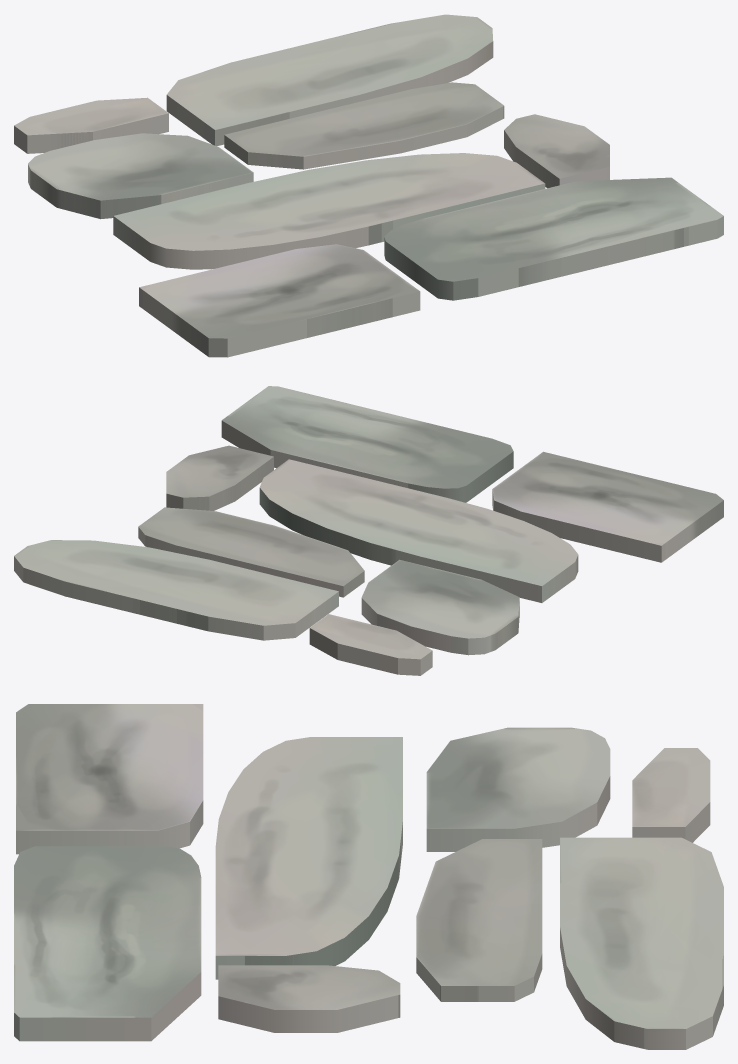
Rendered from tiles.fbx.
3 views of the same model, one above another, from view 1: azimuth 30°, elevation 25°; view 2: azimuth 150°, elevation 25°; view 3: azimuth 270°, elevation 25° (orthographic). The views are drawn at different scales.
Visible parts, largest first — view 1: Plane.001; view 2: Plane.001; view 3: Plane.001.
Part boxes in pixels (x1,y1,x2,y2): Plane.001: (14, 14, 723, 357); Plane.001: (14, 386, 723, 675); Plane.001: (14, 704, 723, 1049).
Size of the model in its own units: 821 by 28 by 757.
Materials: 1 (1 with a texture image).
